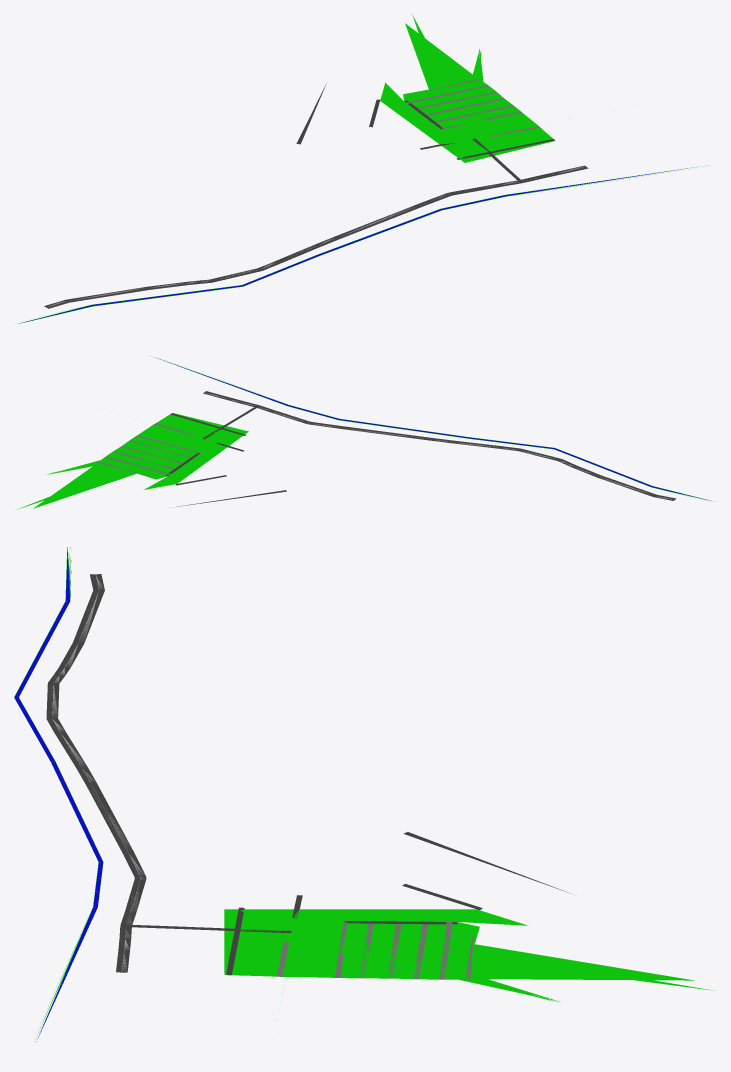
3 renders of one model, top to bottom at view 1: azimuth 30°, elevation 25°; view 2: azimuth 150°, elevation 25°; view 3: azimuth 270°, elevation 25°, orthographic. The views are drawn at different scales.
Bounding box in the file's own units: 736 × 1 × 427.
